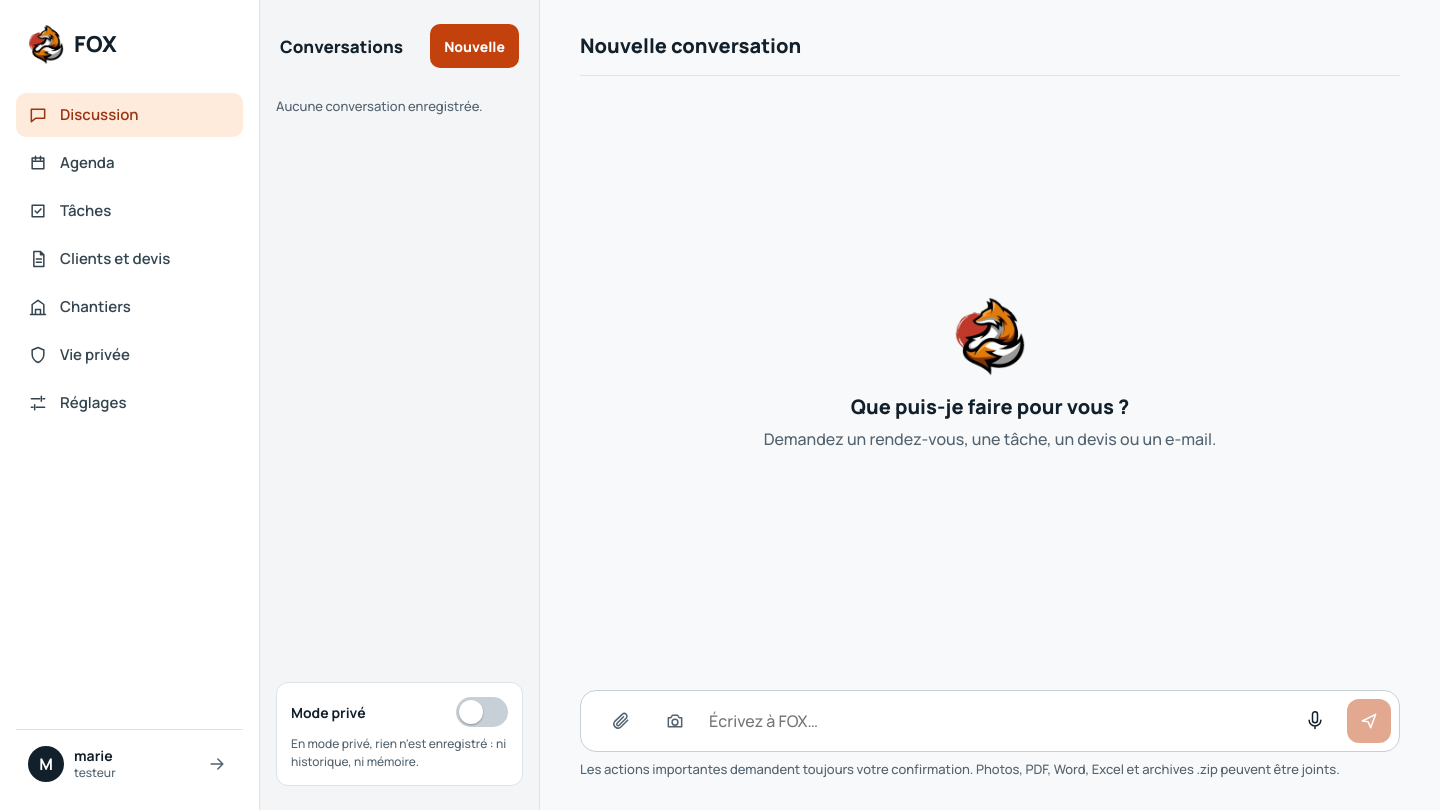
Test: Dictée vocale › explique un micro refusé
The image size is (1440, 810).
Click the button named "Dicter un message". click: point(1315, 721)
box: [1293,699,1337,743]
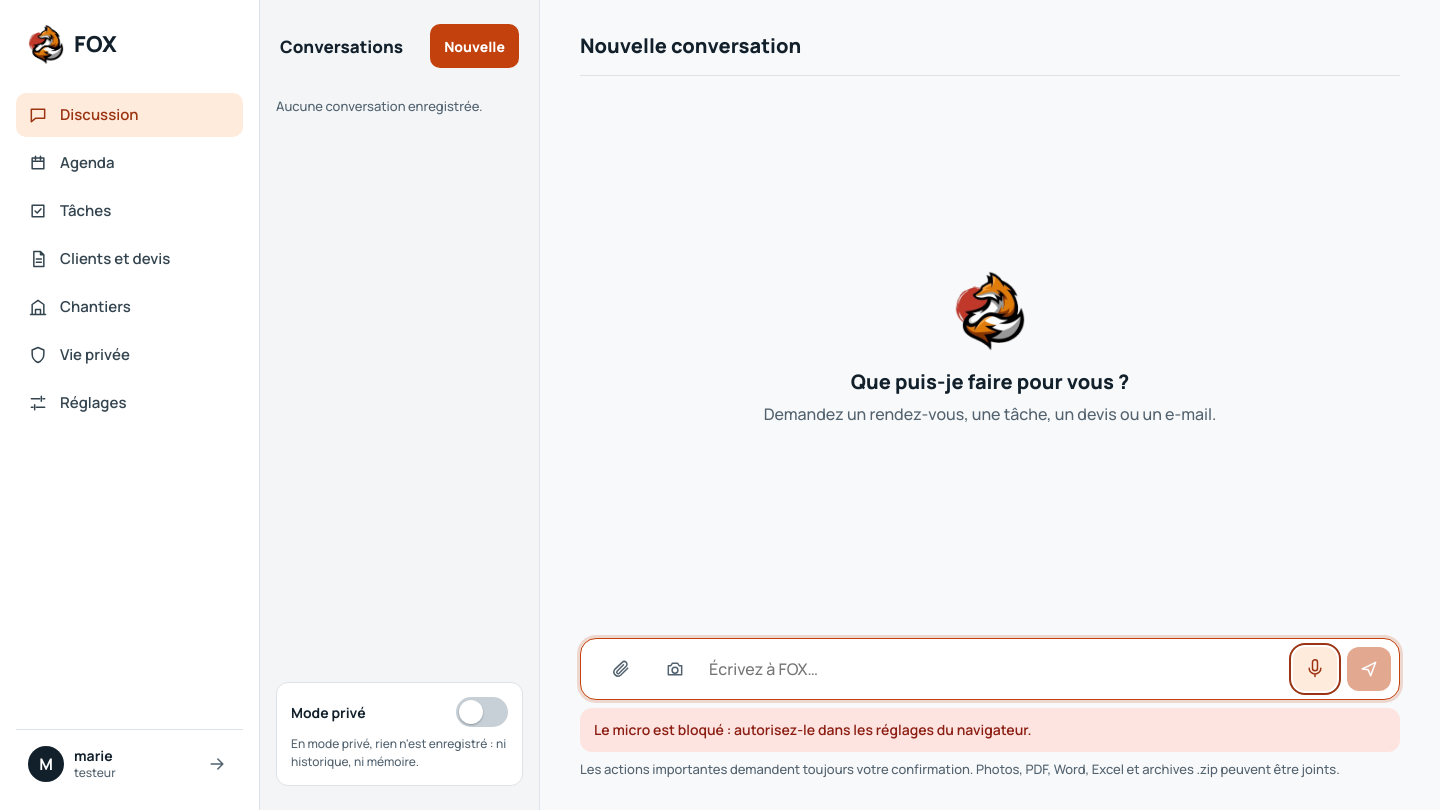
Check: the message shows "Le micro est bloqué", box [594,720,1032,739]
